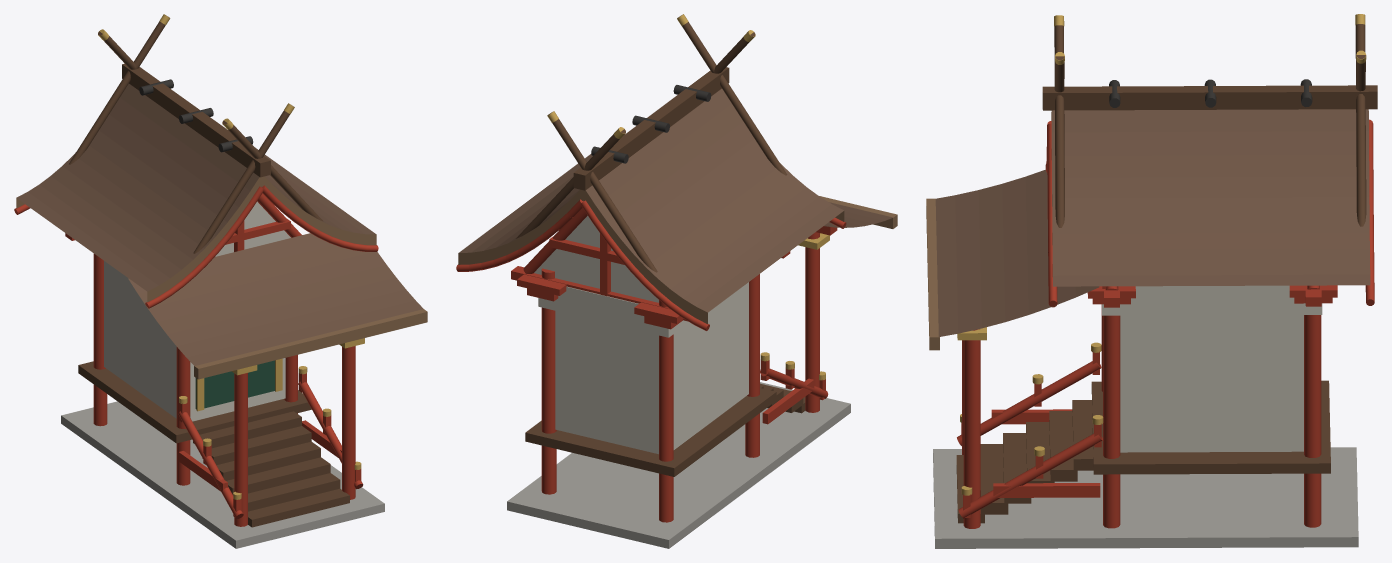
File: kasuga-honden-4.glb
3 views of the same model, side by side, from view 1: azimuth 30°, elevation 25°; view 2: azimuth 150°, elevation 25°; view 3: azimuth 270°, elevation 25° (orthographic). The views are drawn at different scales.
Size of the model in its own units: 4.17 by 6.49 by 5.65.
